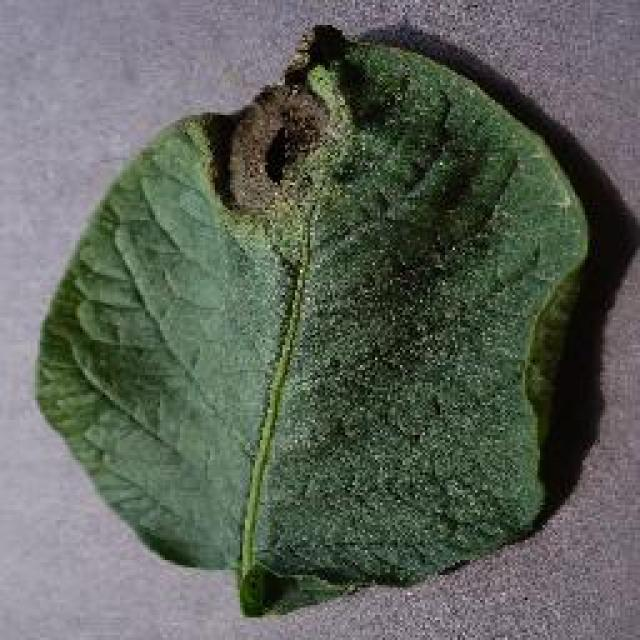late_blight: (30, 20, 595, 620)
